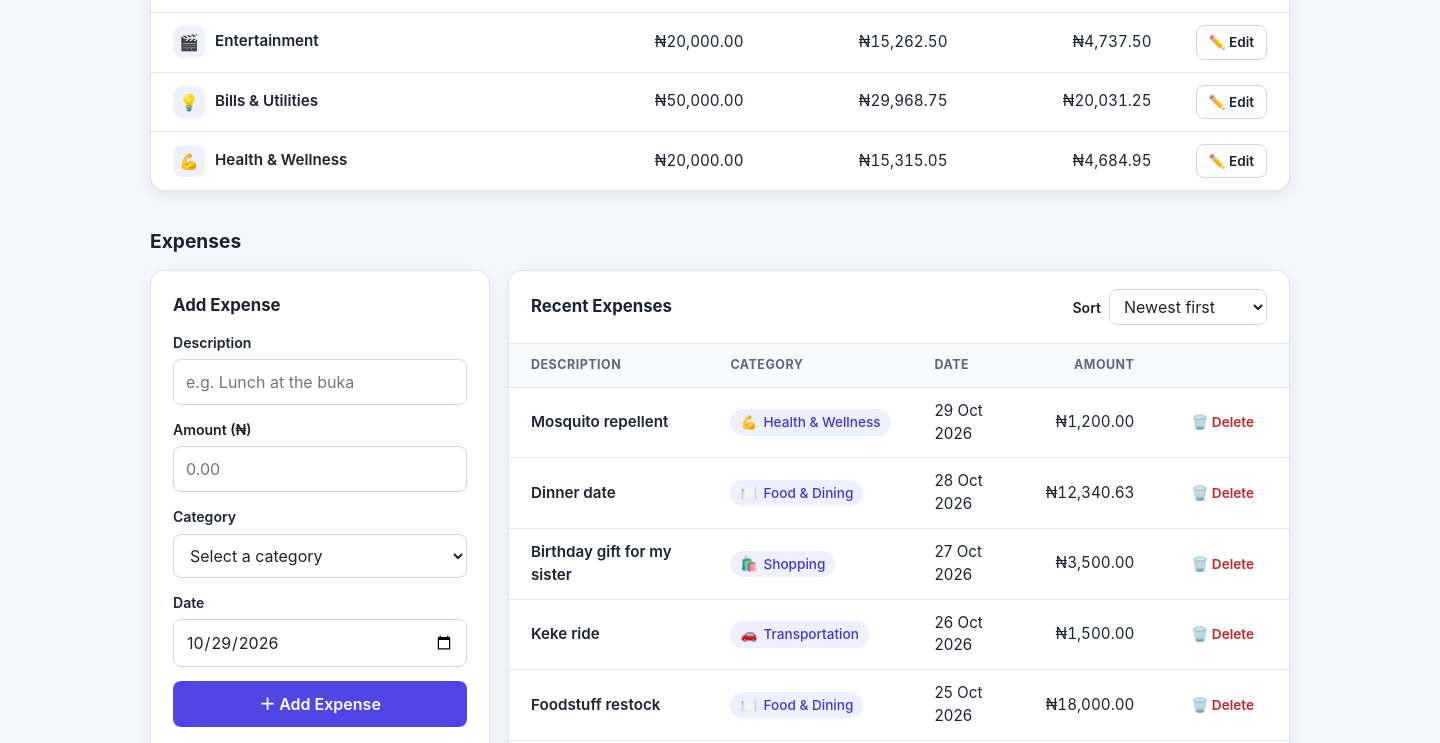
it: App › adding an expense › adds the expense to the list, updates the category and saves it
The width and height of the screenshot is (1440, 743).
(page scrolled)
Type "Team lunch" into the field labelled "Description" at (320, 382), box [173,359,467,405]
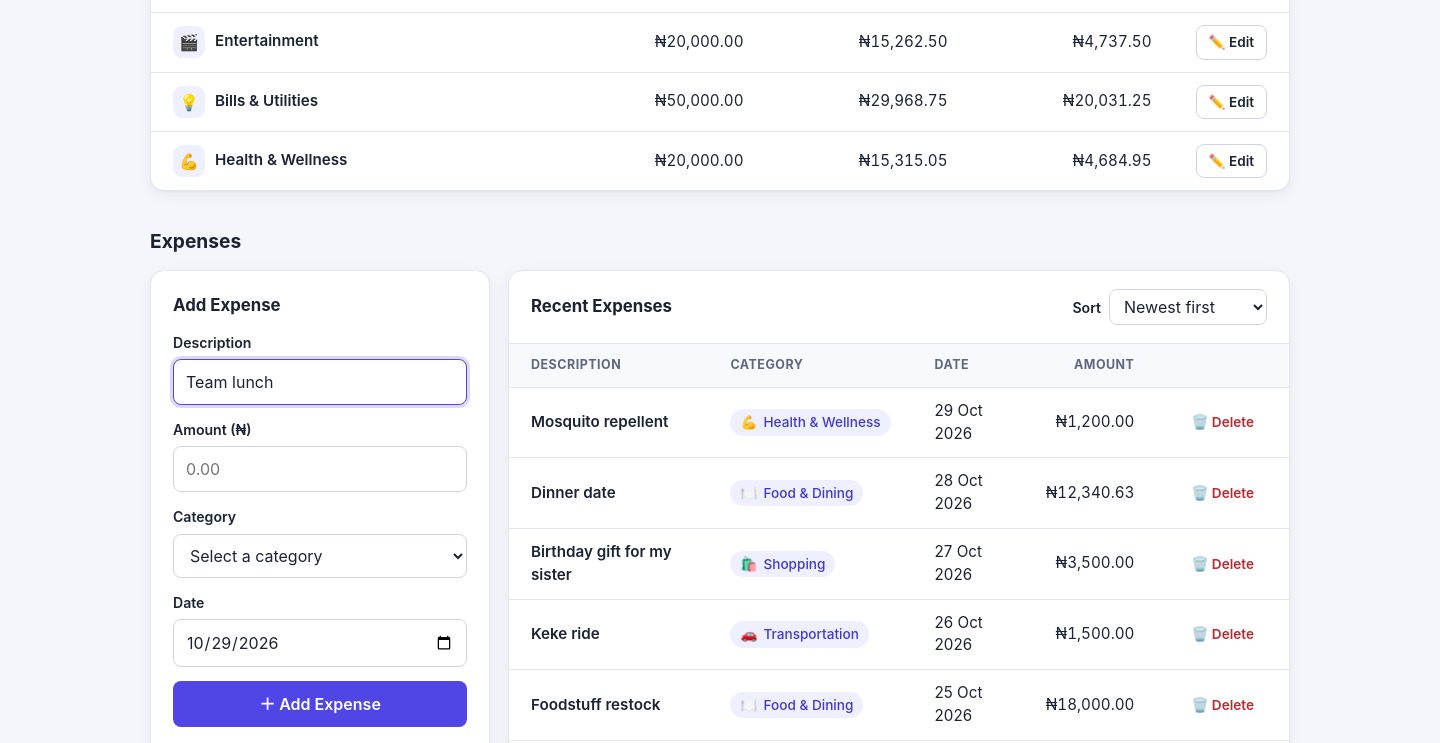
Type "2500.5" into the number field labelled "Amount (₦)" at (320, 470), box [173,446,467,492]
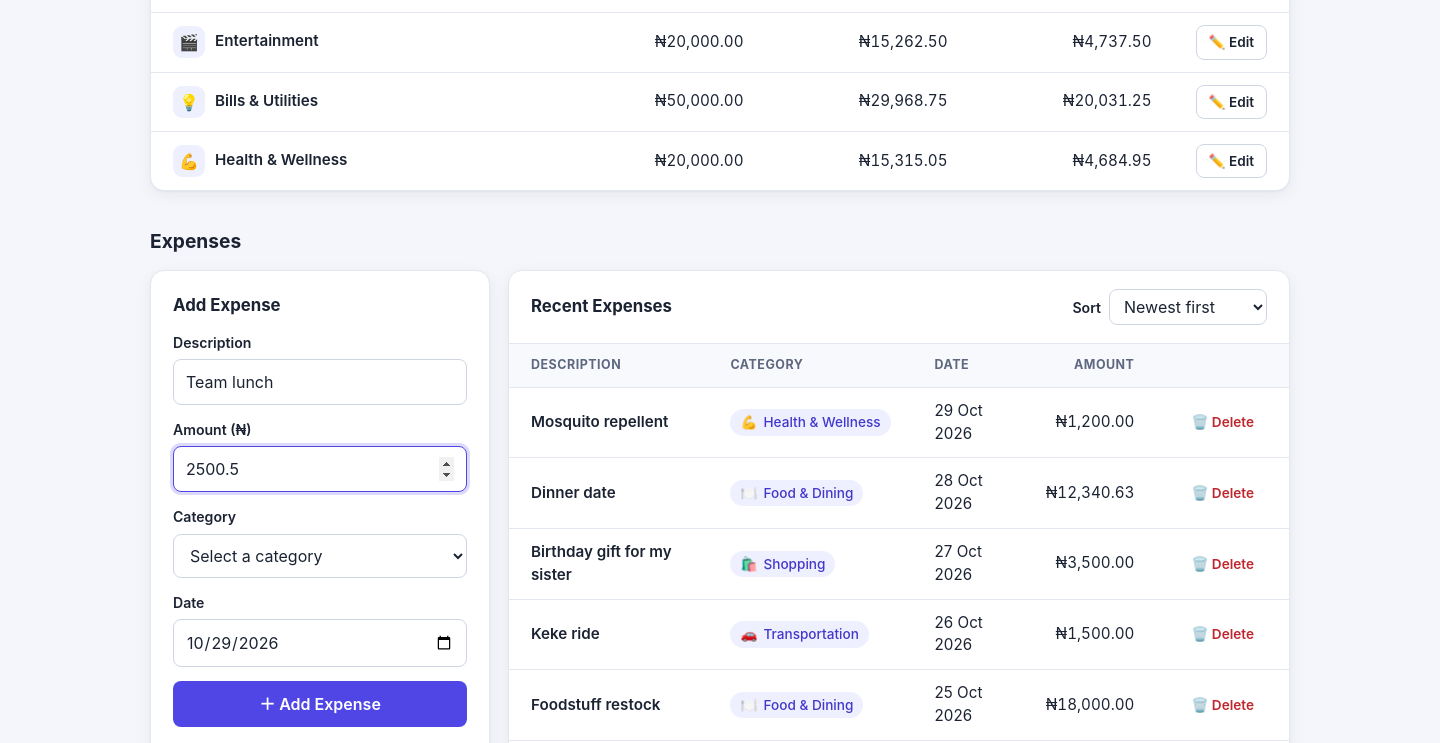
Select "Entertainment" in the dropdown labelled "Category" at (320, 556), box [173,534,467,578]
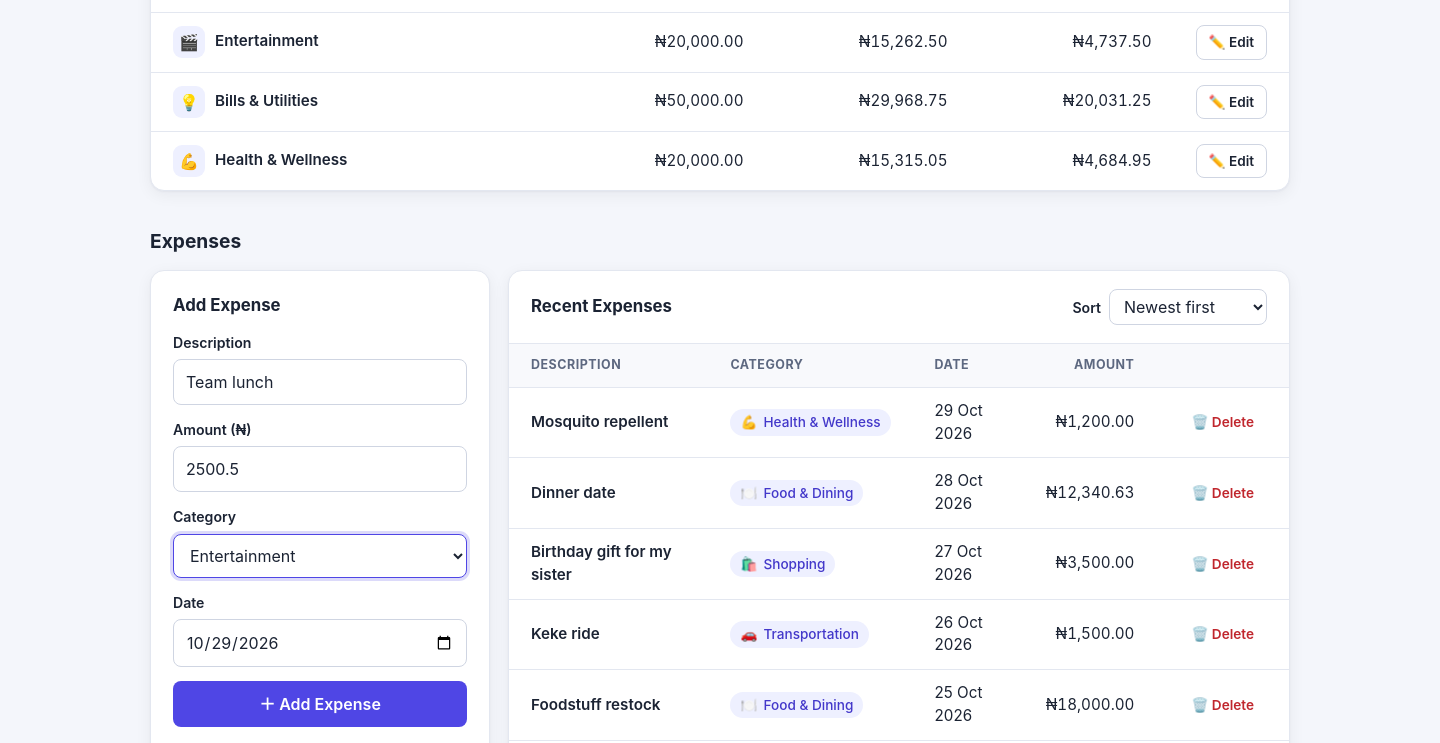
Click the button "＋ Add Expense" at (320, 704), box [173,681,467,727]
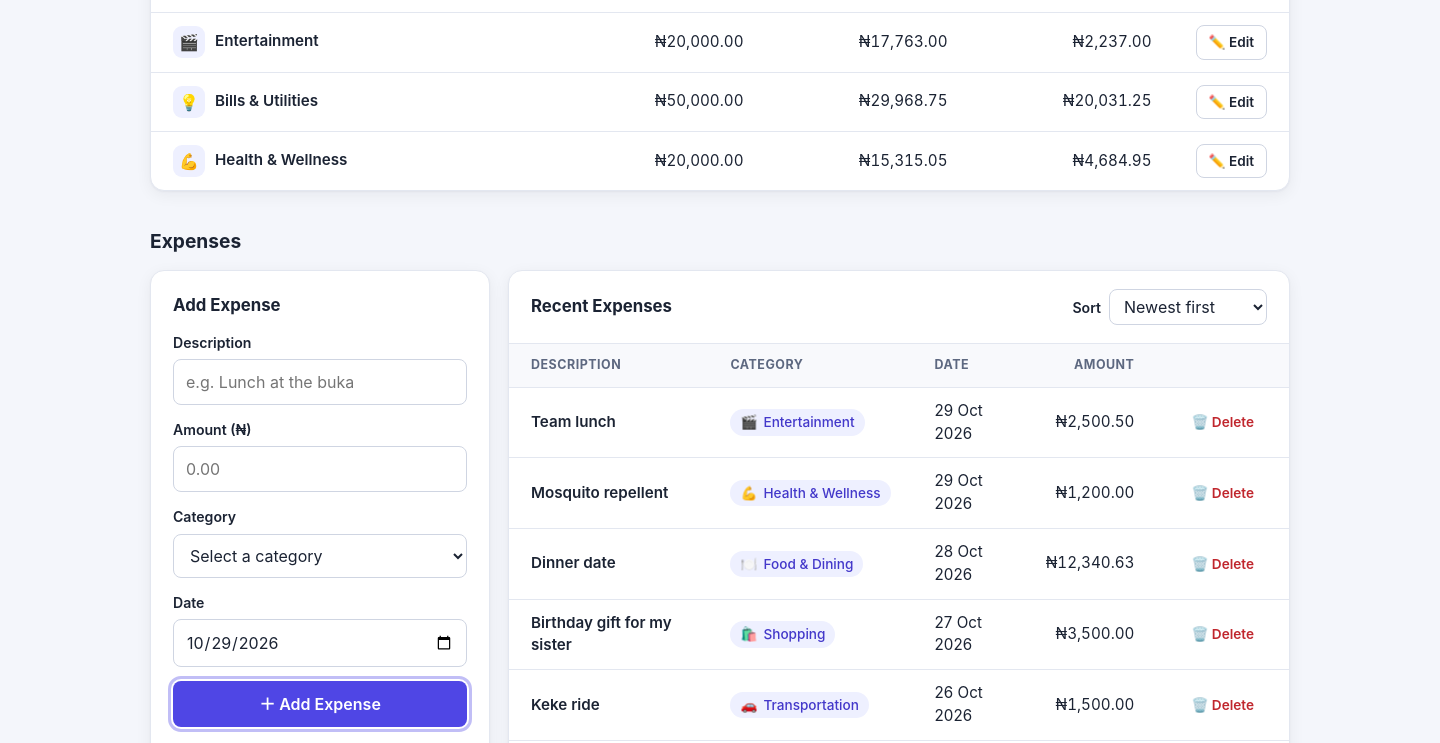
Check: the column heading "Team lunch" is shown, box [509,387,708,458]
Check: the text "₦17,763.00" is shown, box [766,13,970,72]
Check: the text "₦2,237.00" is shown, box [970,13,1174,72]
